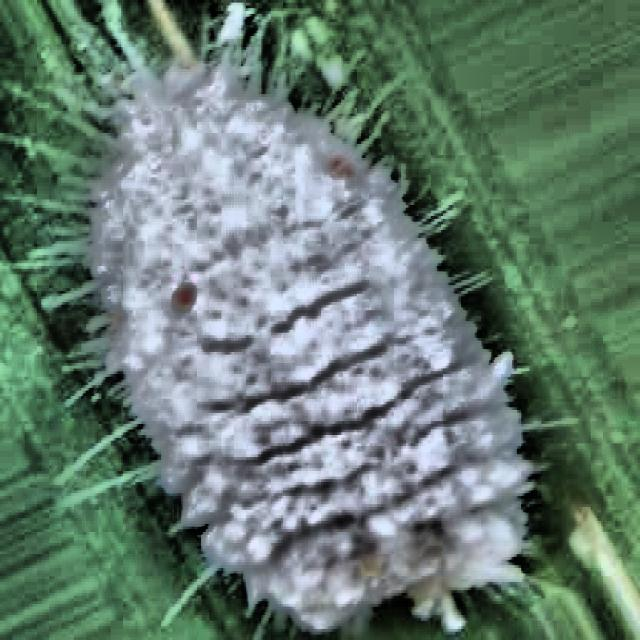Mealy-bug: (53, 0, 622, 640)
